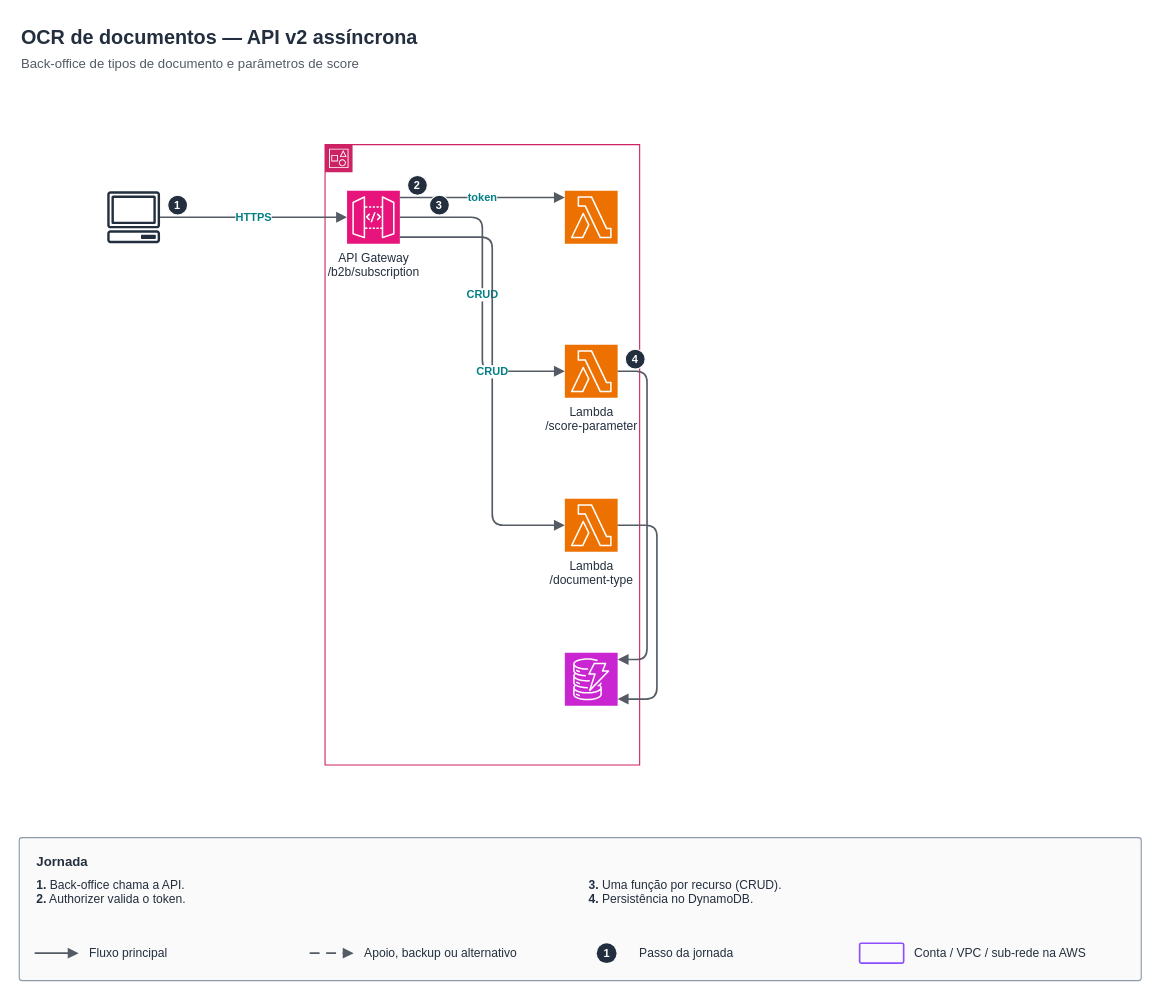
This 1161x1000 diagram has some shape labels left out. Each missing label, with the box of its shape:
Back-office: (107, 190, 160, 243)
Conta OCR: (324, 144, 640, 765)
DynamoDB: (564, 652, 618, 706)
Lambda authorizer: (564, 190, 618, 244)
